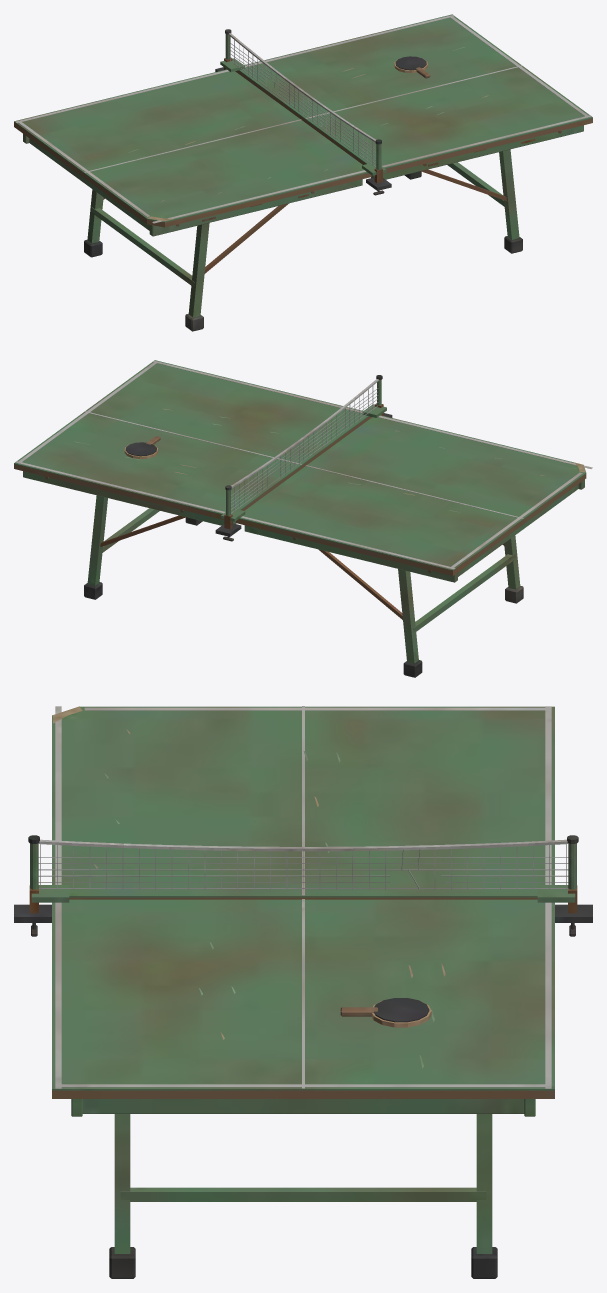
File: SP07_table_tennis_table.glb
3 renders of one model, top to bottom at view 1: azimuth 30°, elevation 25°; view 2: azimuth 150°, elevation 25°; view 3: azimuth 270°, elevation 25°, orthographic. The views are drawn at different scales.
Visible parts, largest first — view 1: Left exposed plywood core; view 2: Left exposed plywood core; view 3: Left exposed plywood core.
Part boxes in pixels (bbox=[...]): Left exposed plywood core: bbox=[14, 14, 592, 331]; Left exposed plywood core: bbox=[14, 360, 592, 677]; Left exposed plywood core: bbox=[14, 706, 592, 1278].
Bounding box in the file's own units: 2.5 × 0.9075 × 1.6.
10 materials, 10 textured.
